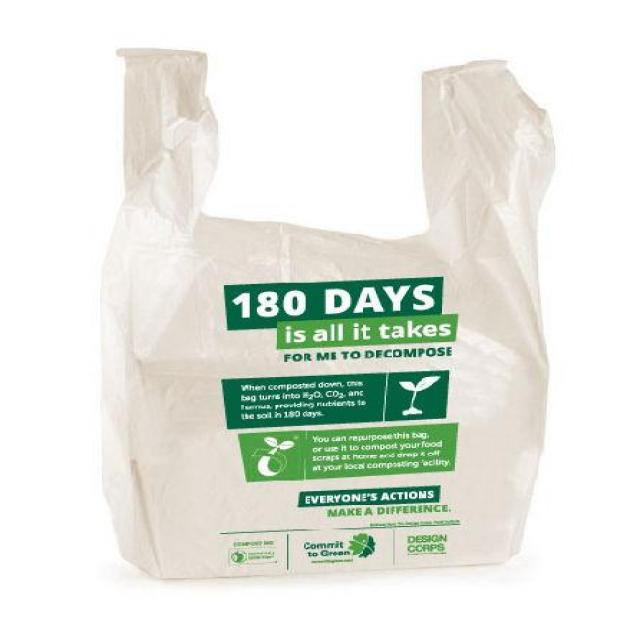plastic_bag: (48, 32, 592, 595)
